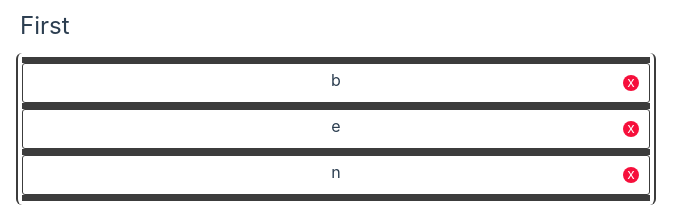
Puzzle view › when the puzzle and the answers exist in the store › when deleting an answer › should be removed from the list and list order updated
Click the 2nd button with test id "delete" at (631,129), box x1=623 y1=121 x2=639 y2=137
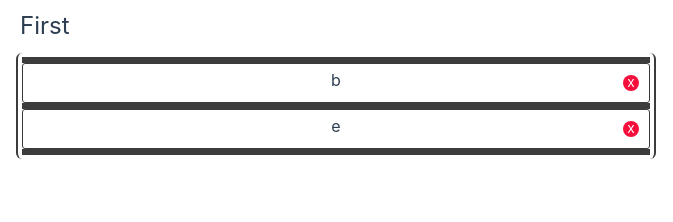
Now the number of elements with class "answer" is 2, box x1=22 y1=63 x2=650 y2=103; x1=22 y1=109 x2=650 y2=149
